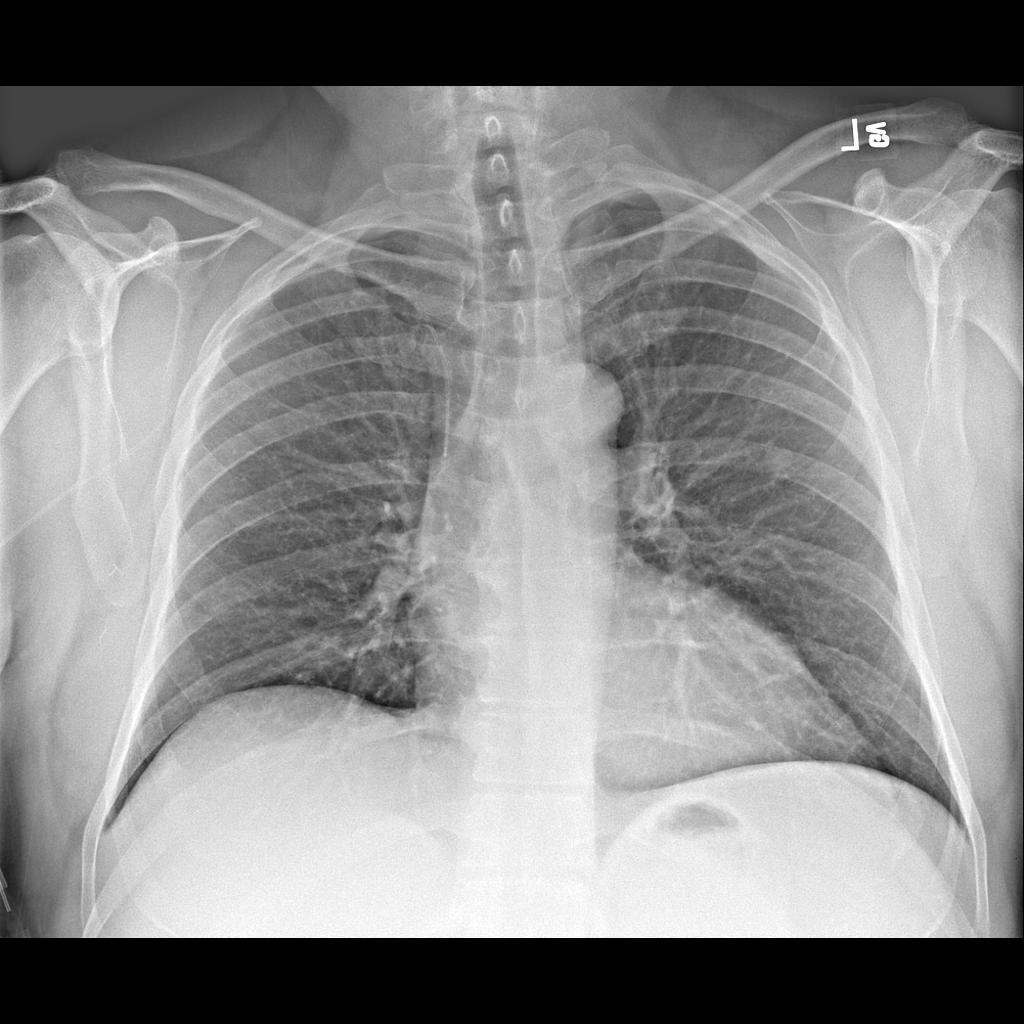Nodule: (770, 445, 802, 481)
